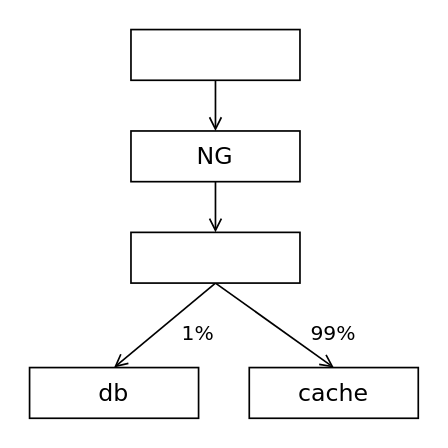
This 448x448 diagram has some shape labels left out. The shapes that lost their labels are listed below. From the top down, each one's centre as x and y in pixels, then its label:
At [214,54]: "APP".
At [214,257]: "web".
